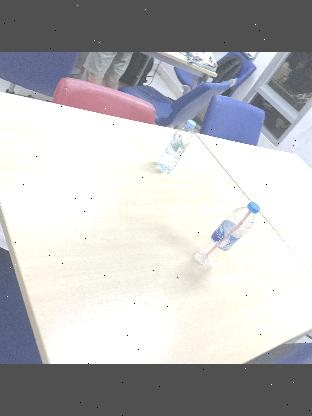Plastic Bottle: (192, 202, 260, 268), (156, 118, 196, 173)
